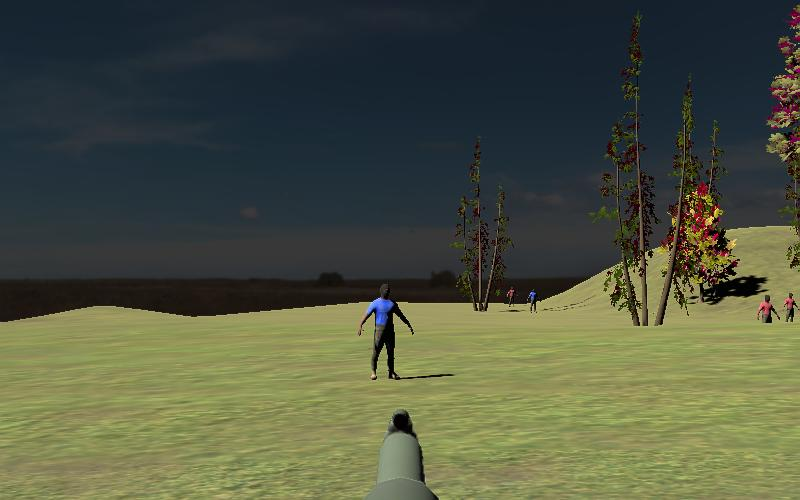Human: (358, 283, 414, 381), (756, 294, 780, 342), (783, 292, 799, 328)
